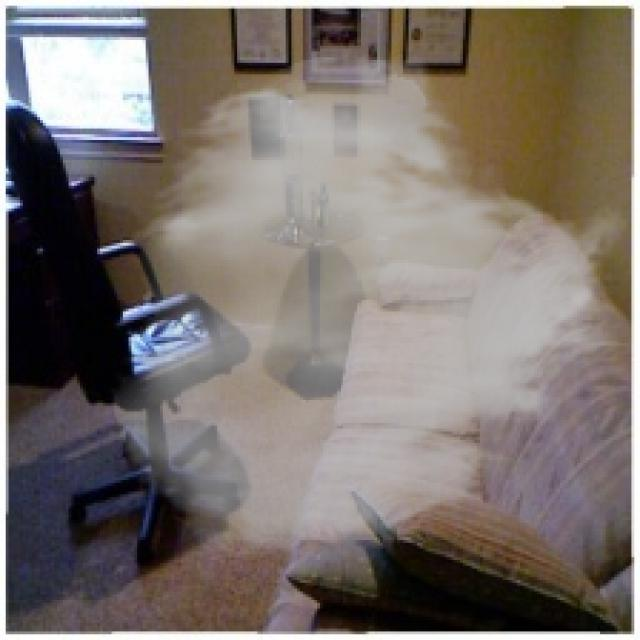smoke: (109, 48, 632, 563)
